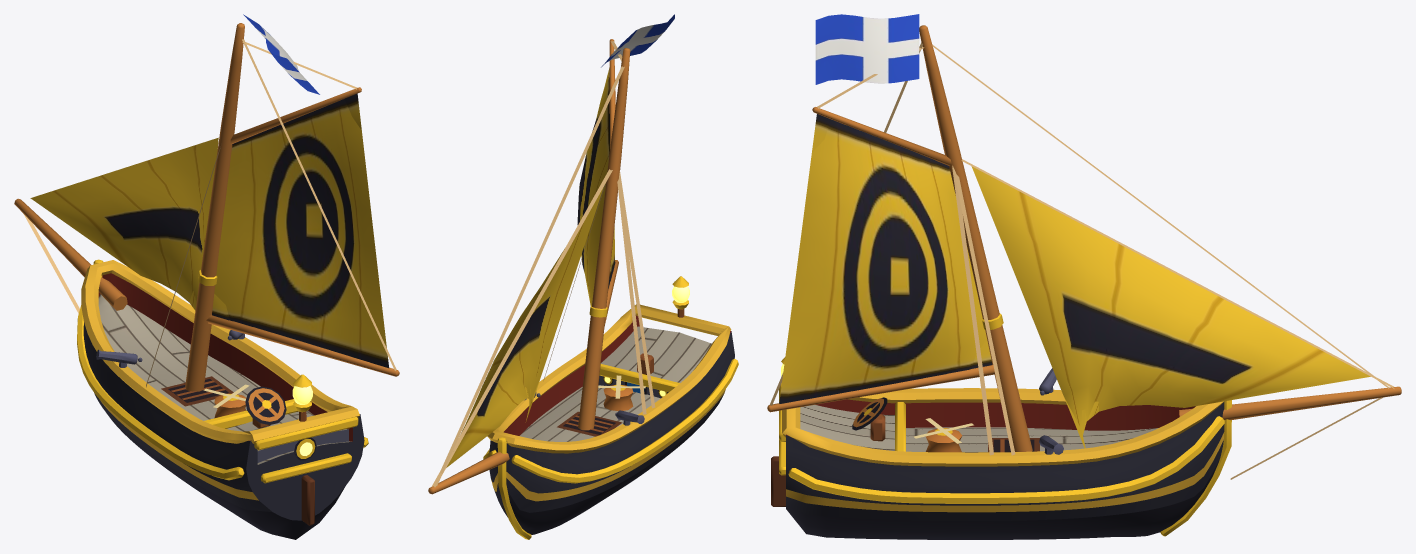
File: enemy_cutter.glb
The picture shows the model from 3 angles, left to right: view 1: azimuth 30°, elevation 25°; view 2: azimuth 150°, elevation 25°; view 3: azimuth 270°, elevation 25°; orthographic projection. The views are drawn at different scales.
Visible parts, largest first — view 1: Hull, Sail0_0, Jib, Rigging, Flag, Guns0; view 2: Hull, Rigging, Jib, Sail0_0, Flag; view 3: Hull, Sail0_0, Jib, Rigging, Flag.
Part boxes in pixels (bbox=[...]): Hull: bbox=[77, 259, 368, 539]; Sail0_0: bbox=[212, 93, 388, 368]; Jib: bbox=[30, 137, 218, 310]; Rigging: bbox=[14, 23, 399, 391]; Flag: bbox=[243, 14, 319, 94]; Guns0: bbox=[96, 330, 244, 367]; Hull: bbox=[483, 276, 738, 539]; Rigging: bbox=[428, 39, 655, 494]; Jib: bbox=[446, 187, 603, 467]; Sail0_0: bbox=[577, 67, 615, 305]; Flag: bbox=[601, 14, 674, 67]; Hull: bbox=[771, 357, 1231, 539]; Sail0_0: bbox=[779, 114, 992, 403]; Jib: bbox=[971, 166, 1370, 448]; Rigging: bbox=[767, 25, 1401, 479]; Flag: bbox=[815, 14, 919, 84].
Bounding box in the file's own units: 0.6723 × 1.87 × 2.05.
8 materials, 4 textured.
